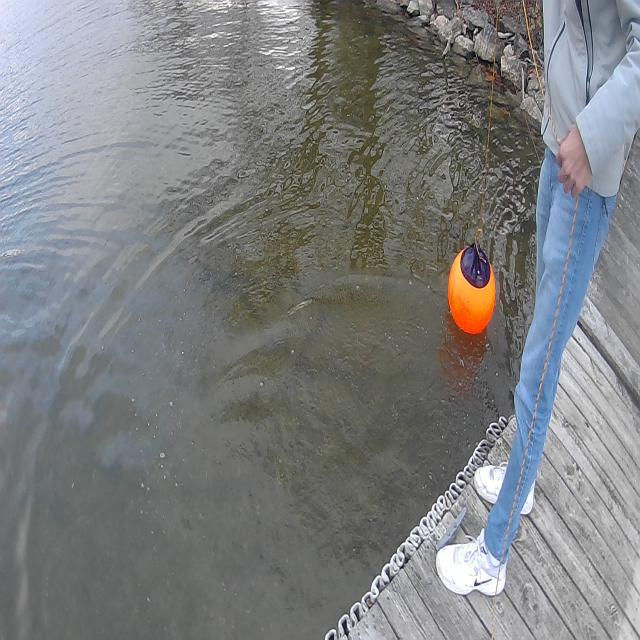Buoy: (446, 223, 500, 343)
